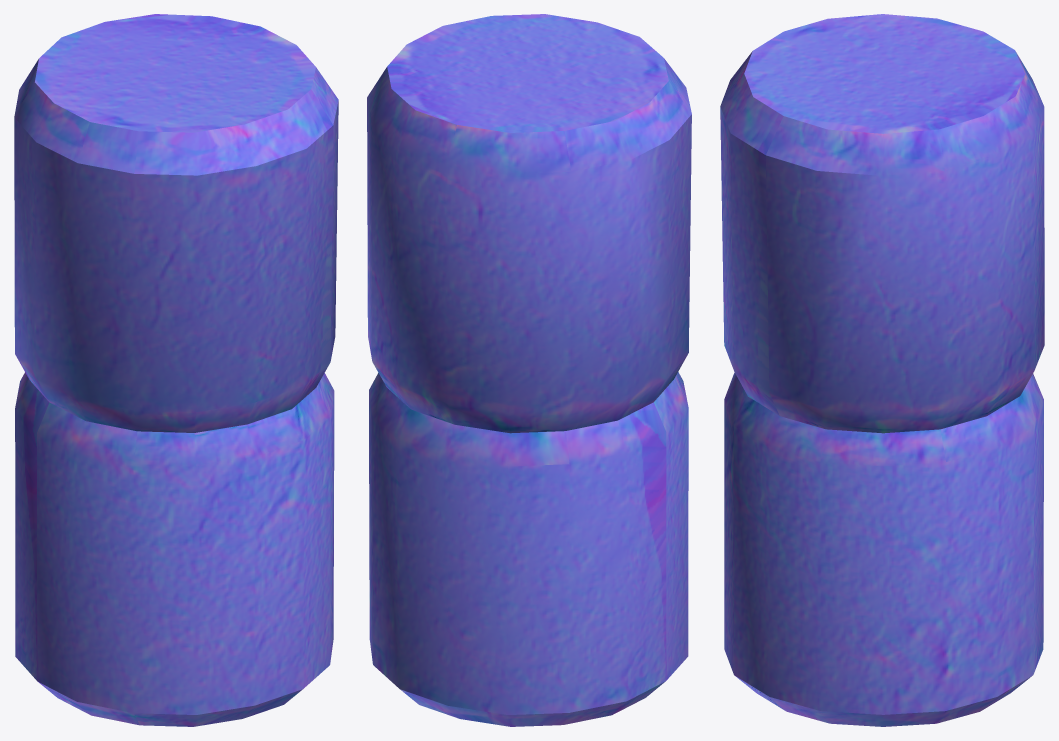
File: pillar_middle_01a_LOD1.fbx
3 views of the same model, side by side, from view 1: azimuth 30°, elevation 25°; view 2: azimuth 150°, elevation 25°; view 3: azimuth 270°, elevation 25° (orthographic).
Visible parts, largest first — view 1: pillar_middle_01a_LOD1; view 2: pillar_middle_01a_LOD1; view 3: pillar_middle_01a_LOD1.
Part boxes in pixels (x1,y1,x2,y2): pillar_middle_01a_LOD1: (14, 14, 338, 726); pillar_middle_01a_LOD1: (367, 14, 691, 726); pillar_middle_01a_LOD1: (720, 14, 1044, 726).
Bounding box in the file's own units: 31.45 × 31.49 × 64.
1 material, 1 textured.
